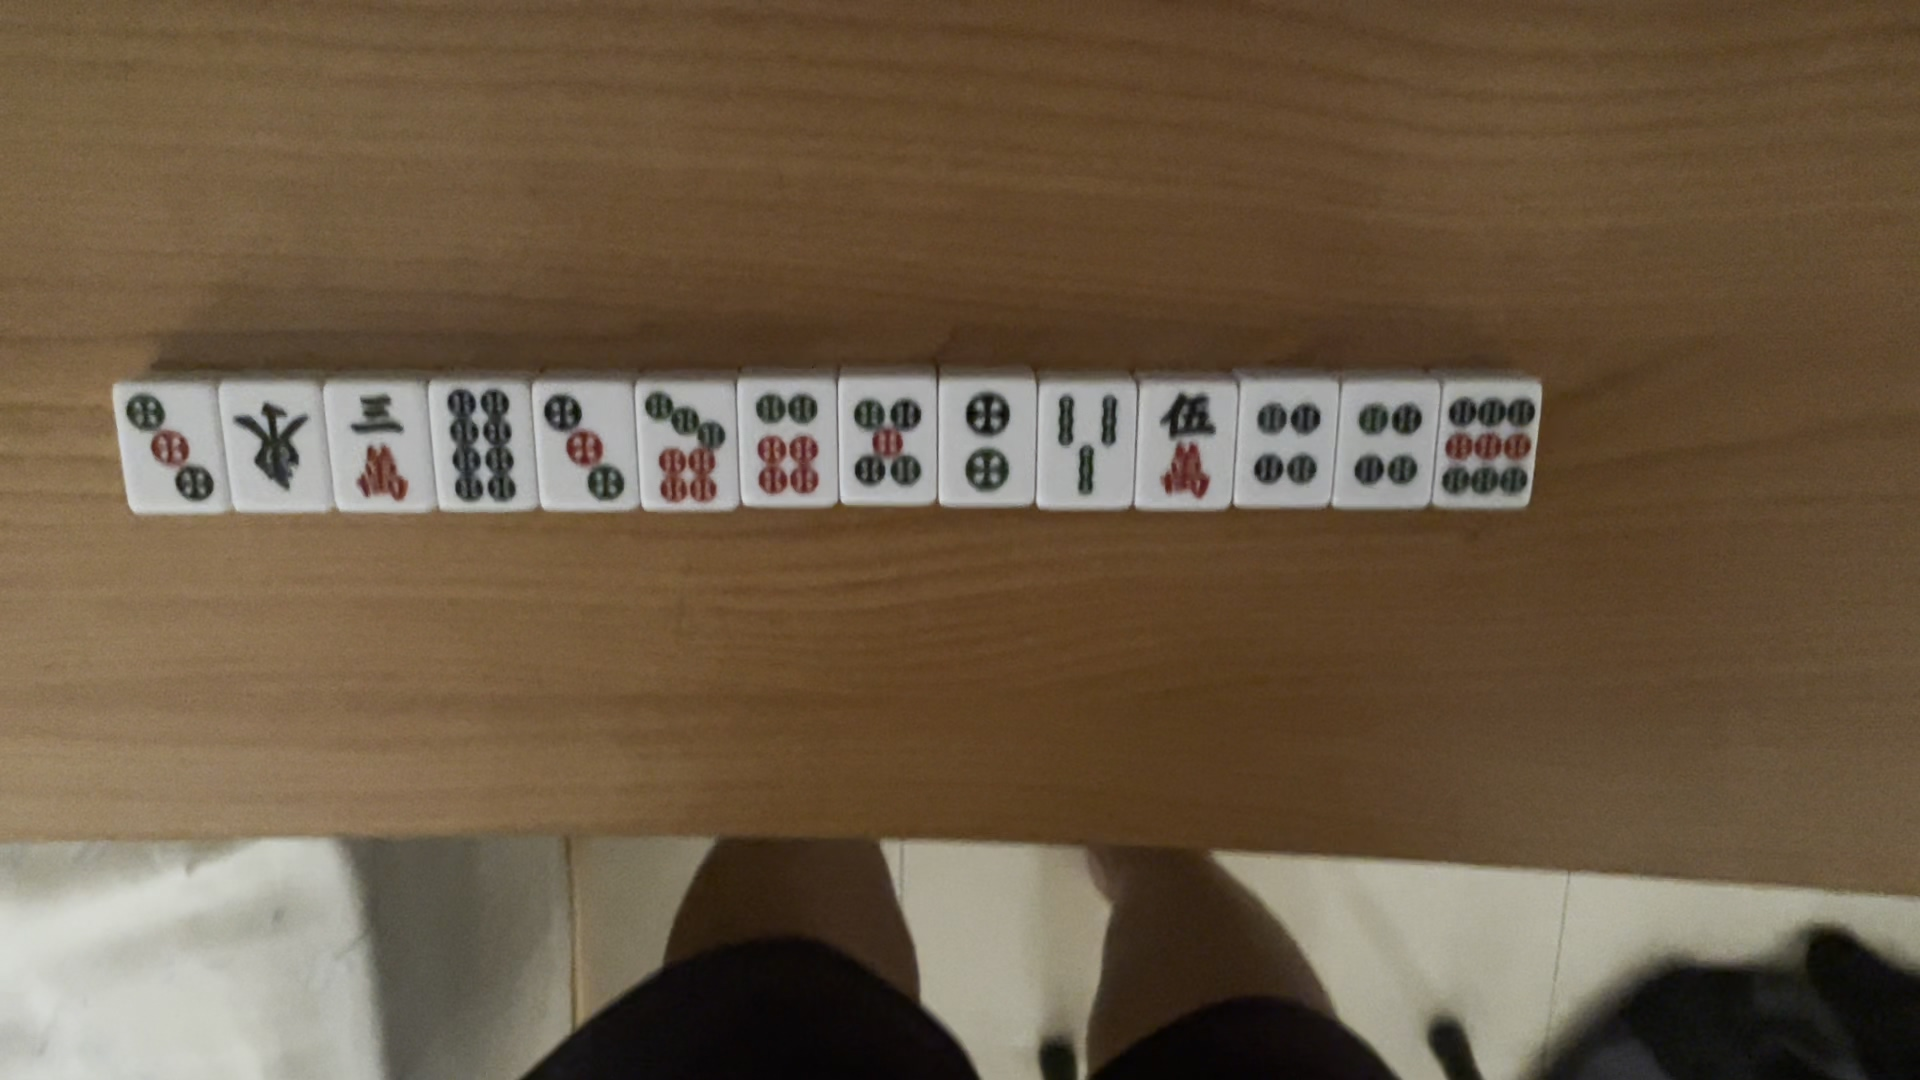b-3: (1052, 388, 1120, 501)
c-3: (344, 386, 415, 504)
c-5: (1149, 388, 1218, 501)
d-2: (942, 386, 1031, 504)
d-3: (123, 392, 216, 508), (541, 392, 628, 506)
d-4: (1247, 393, 1325, 489), (1349, 400, 1425, 495)
d-5: (848, 398, 924, 498)
d-6: (748, 385, 829, 495)
d-7: (641, 389, 731, 505)
d-8: (442, 382, 524, 508)
d-9: (1443, 382, 1536, 502)
honors-east: (229, 392, 313, 496)
